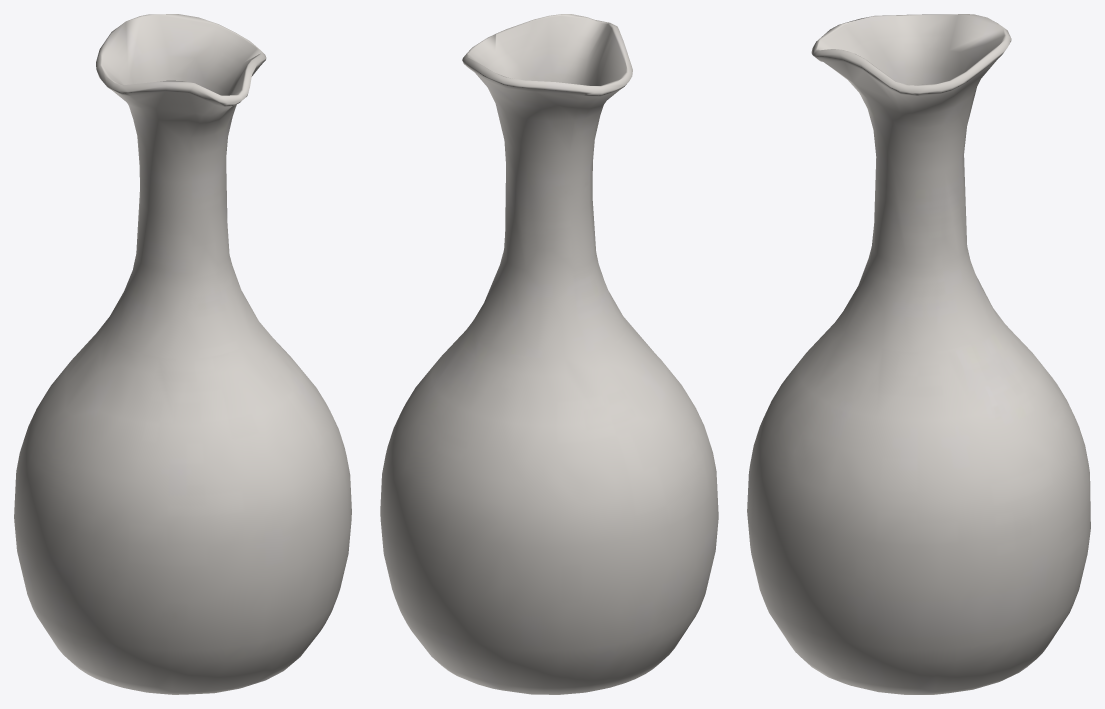
Rendered from vase_a.glb.
3 renders of one model, left to right at view 1: azimuth 30°, elevation 25°; view 2: azimuth 150°, elevation 25°; view 3: azimuth 270°, elevation 25°, orthographic.
Parts seen in each view (by area): view 1: ceramic_vase_01; view 2: ceramic_vase_01; view 3: ceramic_vase_01.
Boxes of the visible parts, bbox=[...] form: ceramic_vase_01: bbox=[14, 14, 351, 694]; ceramic_vase_01: bbox=[380, 14, 718, 694]; ceramic_vase_01: bbox=[747, 14, 1090, 694].
Size of the model in its own units: 0.2036 by 0.4003 by 0.2031.
Materials: 1 (1 with a texture image).
